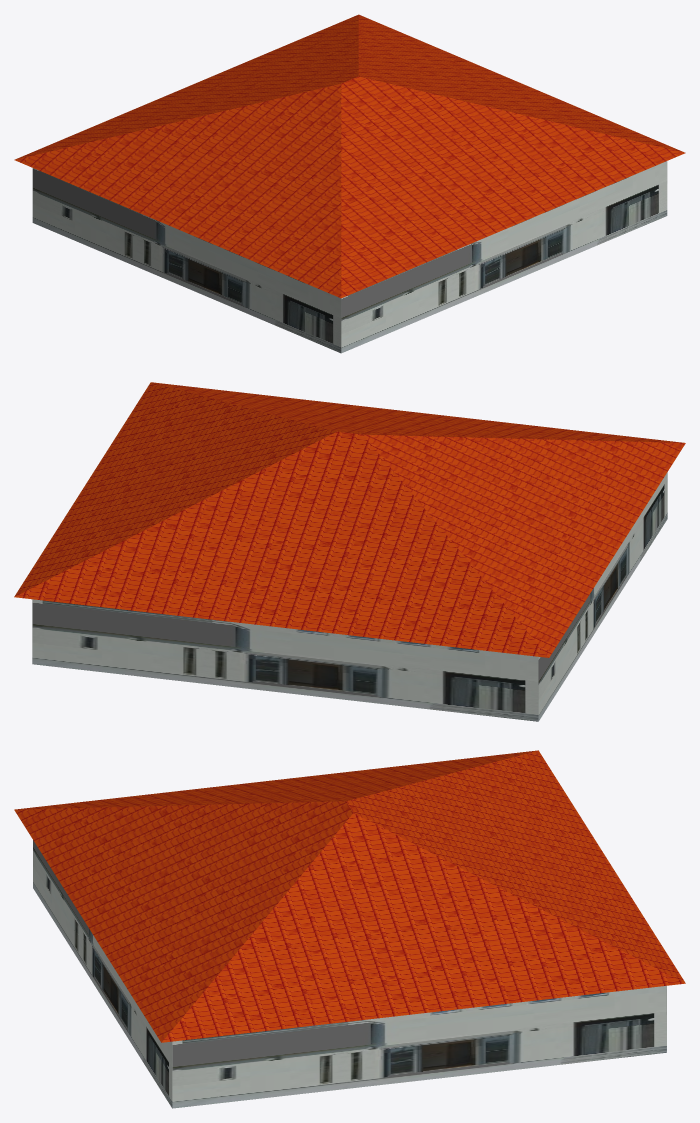
The picture shows the model from 3 angles, top to bottom: view 1: azimuth 30°, elevation 25°; view 2: azimuth 150°, elevation 25°; view 3: azimuth 270°, elevation 25°; orthographic projection. The views are drawn at different scales.
Visible parts, largest first — view 1: CityEngineMaterial_12_m, CityEngineMaterial_11_m; view 2: CityEngineMaterial_12_m, CityEngineMaterial_11_m; view 3: CityEngineMaterial_12_m, CityEngineMaterial_11_m.
Boxes of the visible parts, x1,y1,x2,y2 form: CityEngineMaterial_12_m: (14, 14, 685, 298); CityEngineMaterial_11_m: (32, 161, 667, 353); CityEngineMaterial_12_m: (14, 382, 685, 657); CityEngineMaterial_11_m: (32, 472, 667, 721); CityEngineMaterial_12_m: (14, 750, 685, 1042); CityEngineMaterial_11_m: (33, 840, 666, 1108).
Bounding box in the file's own units: 41.95 × 10.92 × 40.74.
